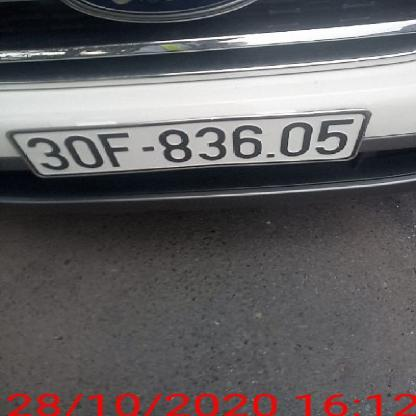biensoxe: (4, 112, 368, 178)
